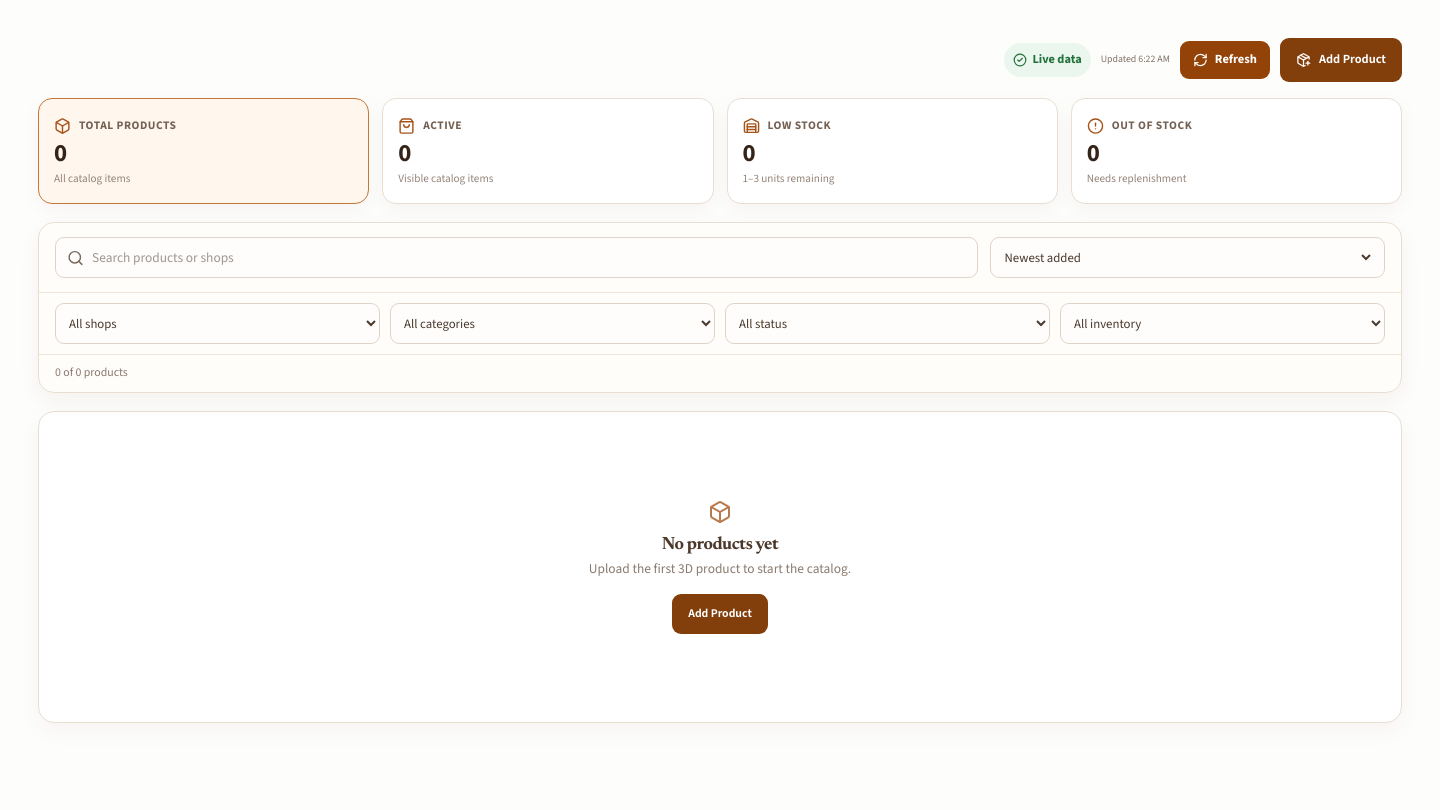
admin product editor save › opens the same method selector from the empty catalog
Check: the heading "No products yet" is shown, box x1=662 y1=536 x2=778 y2=554
Click the button "Add Product" below "No products yet" at (720,614), box x1=672 y1=594 x2=768 y2=634
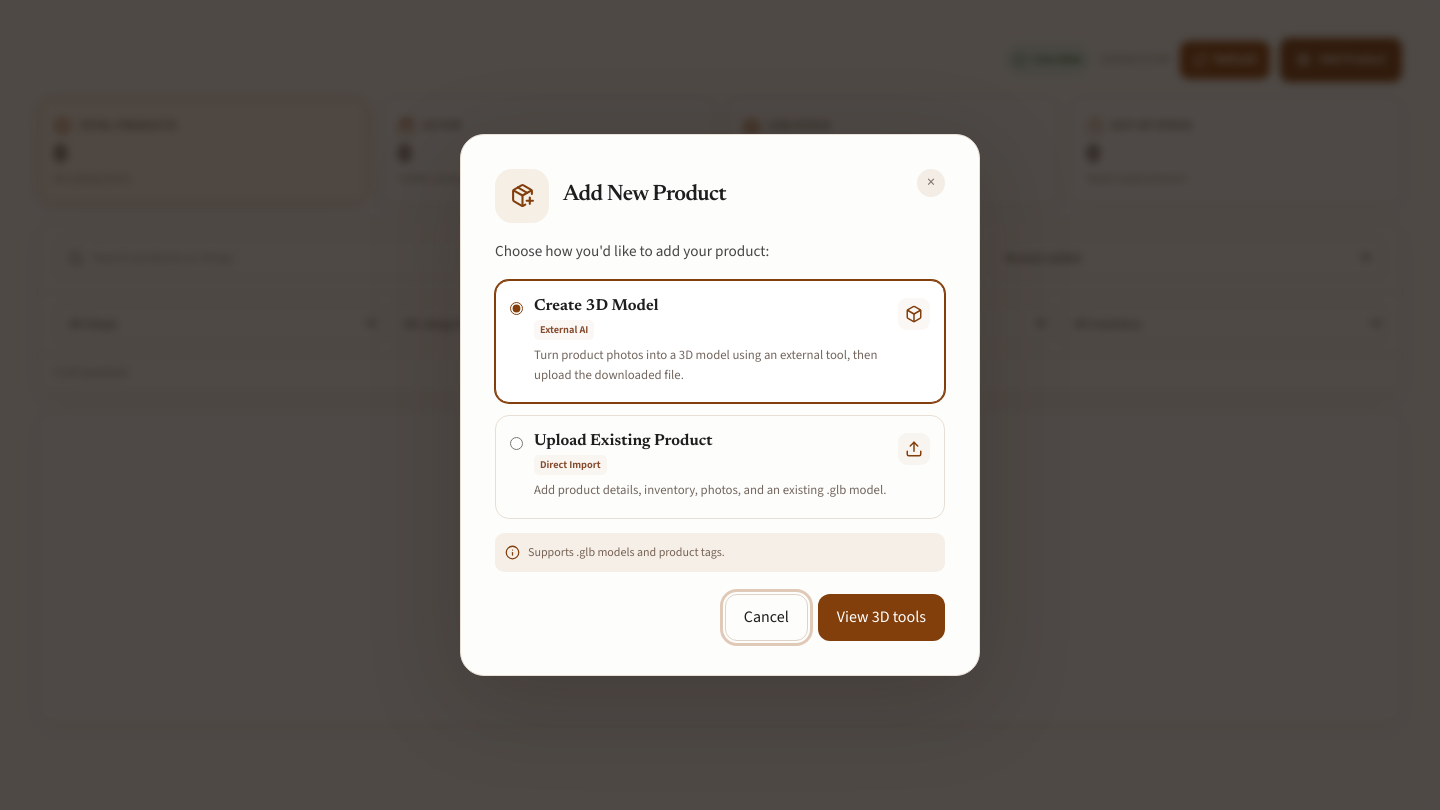
Check: the radio button labelled "Create 3D Model" is checked, box x1=510 y1=302 x2=523 y2=315
